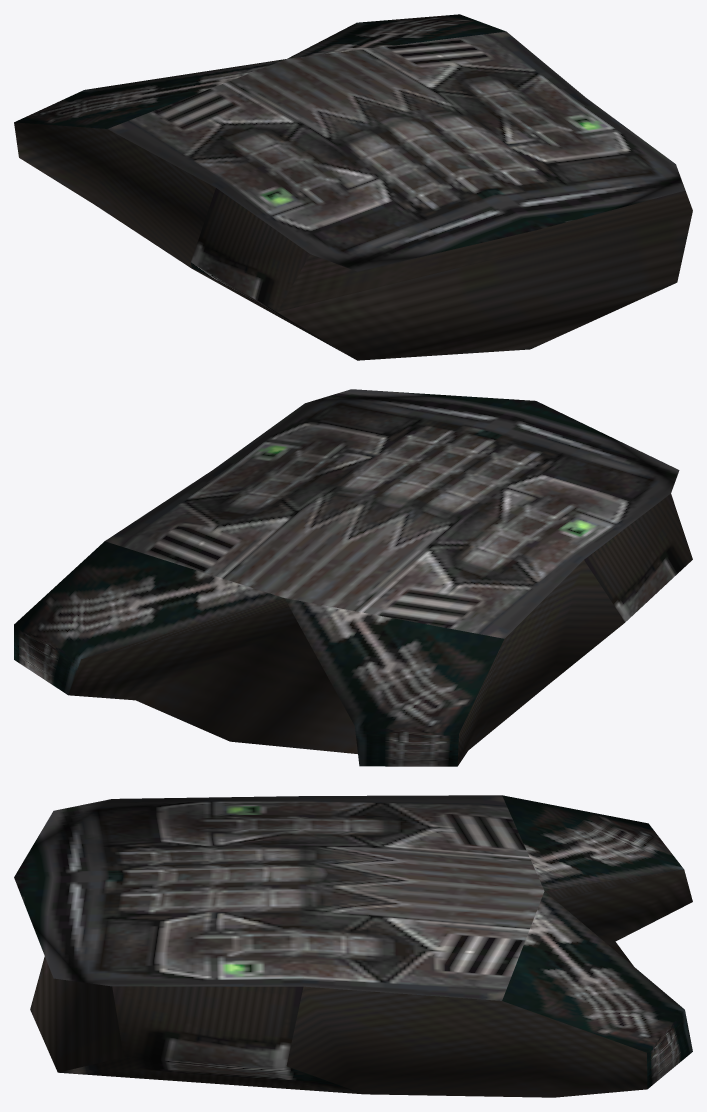
The model's file is TorsoArmour5__VTX.glb.
3 views of the same model, one above another, from view 1: azimuth 30°, elevation 25°; view 2: azimuth 150°, elevation 25°; view 3: azimuth 270°, elevation 25° (orthographic). The views are drawn at different scales.
Parts seen in each view (by area): view 1: TorsoArmour5; view 2: TorsoArmour5; view 3: TorsoArmour5.
Boxes of the visible parts, x1,y1,x2,y2 form: TorsoArmour5: (14,14,692,360); TorsoArmour5: (14,389,692,766); TorsoArmour5: (14,795,692,1097).
Bounding box in the file's own units: 20.33 × 6.01 × 25.43.
1 material, 1 textured.
